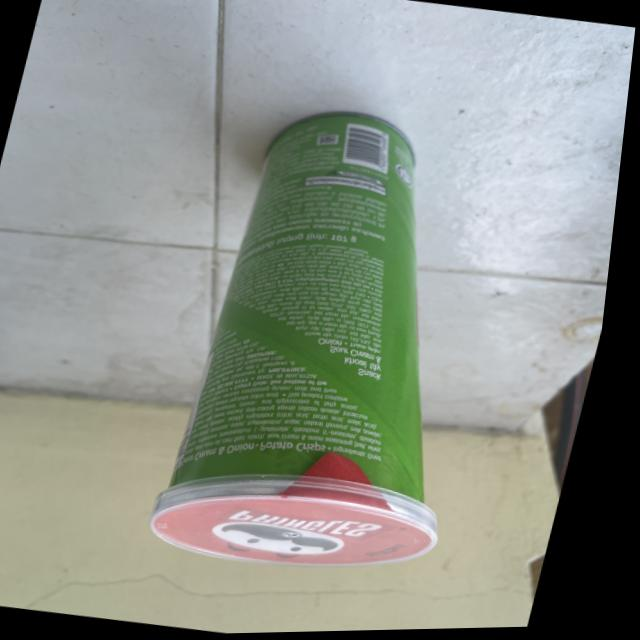a pringles: (148, 91, 555, 599)
